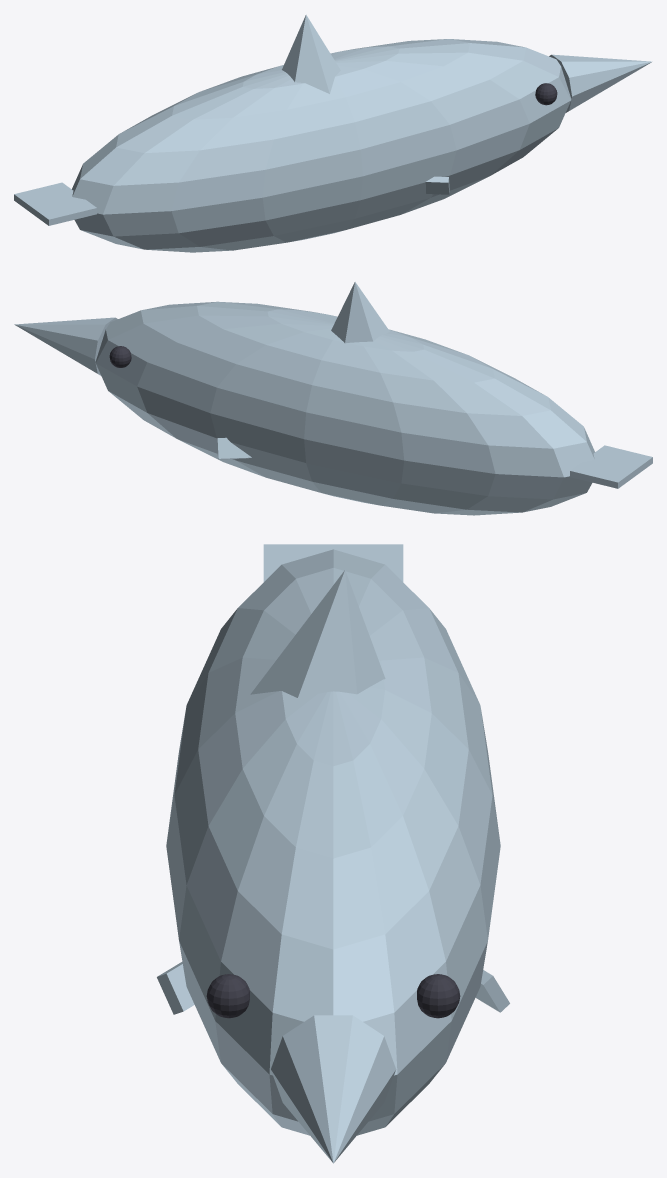
The model's file is dolphin.glb.
3 views of the same model, one above another, from view 1: azimuth 30°, elevation 25°; view 2: azimuth 150°, elevation 25°; view 3: azimuth 270°, elevation 25° (orthographic). The views are drawn at different scales.
Parts seen in each view (by area): view 1: Body, Rostrum, Dorsal, Fluke, FlipperR, EyeR; view 2: Body, Rostrum, Fluke, Dorsal, FlipperL, EyeL; view 3: Body, Rostrum, Dorsal, Fluke, EyeL, EyeR, FlipperR.
Part boxes in pixels (box(x1,y1,x2,y2)): Body: box(72, 39, 571, 252); Rostrum: box(549, 54, 652, 112); Dorsal: box(282, 14, 340, 93); Fluke: box(14, 182, 96, 225); FlipperR: box(425, 176, 449, 194); EyeR: box(535, 83, 557, 105); Body: box(95, 301, 594, 515); Rostrum: box(14, 317, 117, 375); Fluke: box(570, 445, 652, 488); Dorsal: box(331, 282, 389, 343); FlipperL: box(217, 437, 251, 459); EyeL: box(109, 346, 131, 367); Body: box(166, 549, 500, 1135); Rostrum: box(271, 1015, 395, 1163); Dorsal: box(250, 570, 385, 697); Fluke: box(263, 544, 403, 581); EyeL: box(417, 974, 460, 1018); EyeR: box(206, 974, 249, 1018); FlipperR: box(157, 962, 194, 1014).
Size of the model in its own units: 1.03 by 0.3394 by 0.2538.
